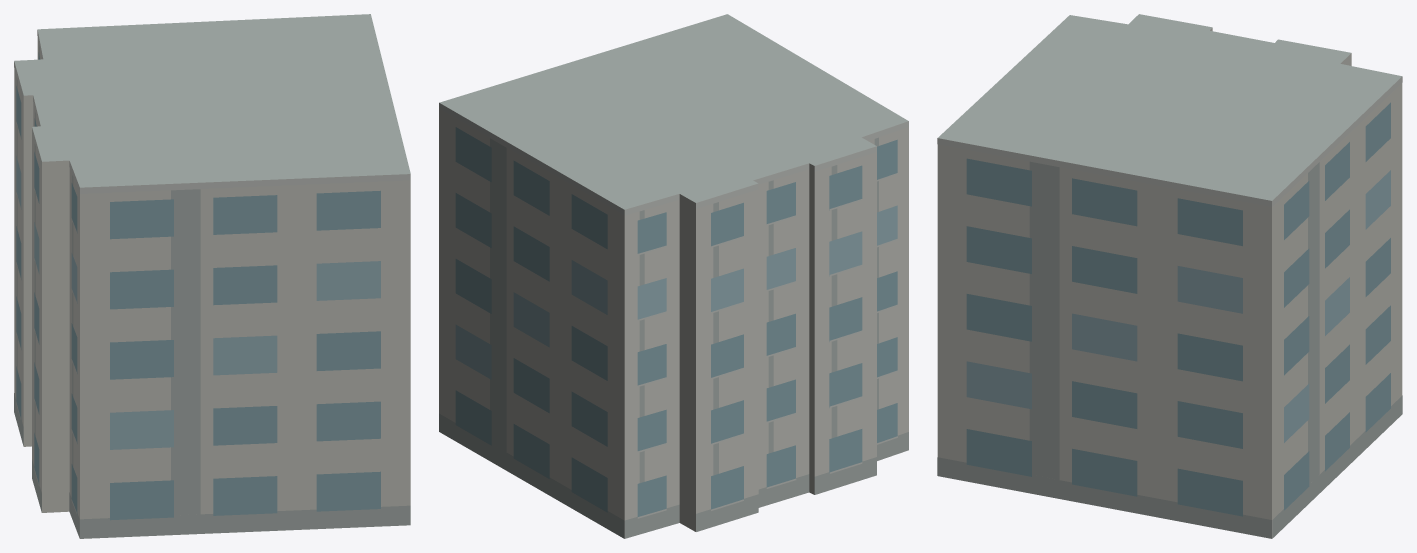
Rendered from survey-upis-32990250.glb.
The picture shows the model from 3 angles, left to right: view 1: azimuth 30°, elevation 25°; view 2: azimuth 150°, elevation 25°; view 3: azimuth 270°, elevation 25°; orthographic projection. The views are drawn at different scales.
Parts seen in each view (by area): view 1: survey-upis-32990250.tmp; view 2: survey-upis-32990250.tmp; view 3: survey-upis-32990250.tmp.
Boxes of the visible parts, x1,y1,x2,y2 form: survey-upis-32990250.tmp: (14,14,410,538); survey-upis-32990250.tmp: (439,14,908,538); survey-upis-32990250.tmp: (937,14,1402,538).
Size of the model in its own units: 15.67 by 13.2 by 16.47.
